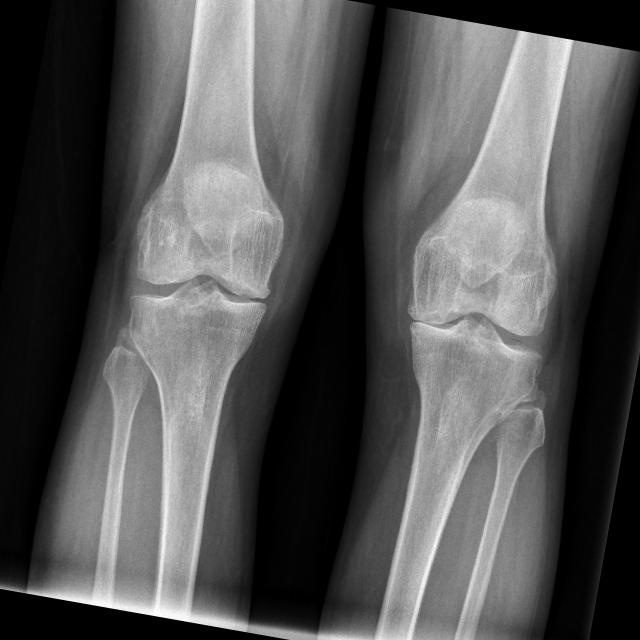Knee: (386, 245, 560, 410), (112, 208, 284, 361)
